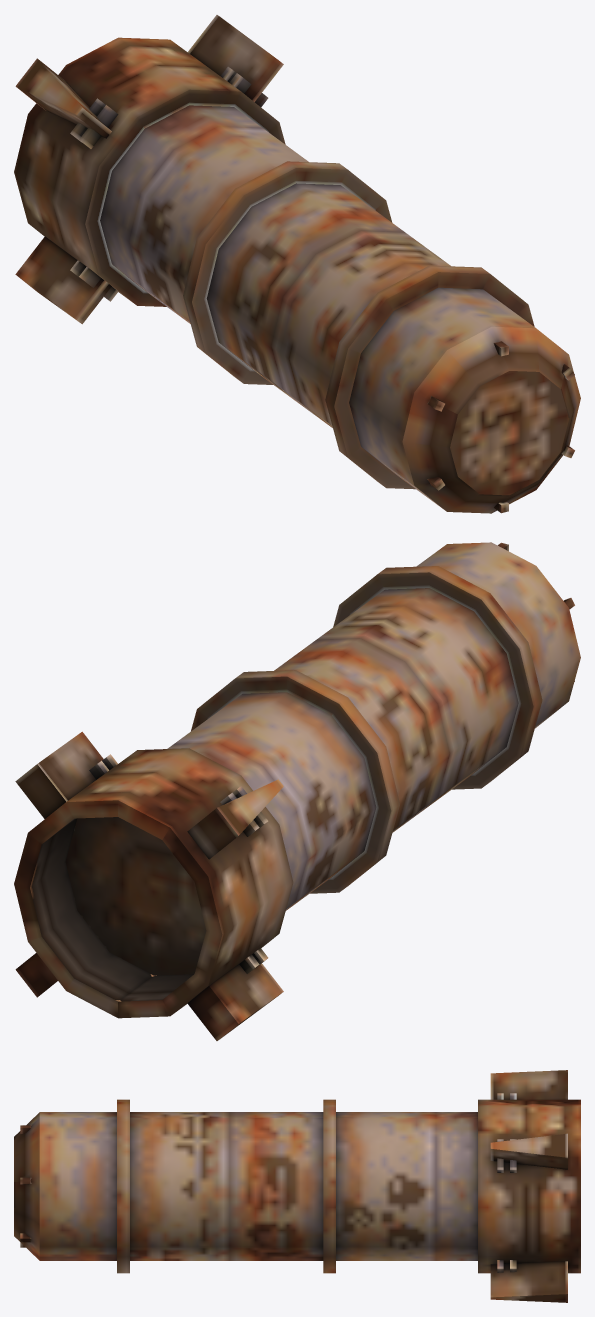
File: dud_salted.obj
The picture shows the model from 3 angles, top to bottom: view 1: azimuth 30°, elevation 25°; view 2: azimuth 150°, elevation 25°; view 3: azimuth 270°, elevation 25°; orthographic projection. The views are drawn at different scales.
Visible parts, largest first — view 1: Cylinder.002; view 2: Cylinder.002; view 3: Cylinder.002.
Part boxes in pixels (left/top/right/bottom): Cylinder.002: left=14, top=15, right=580, bottom=513; Cylinder.002: left=14, top=542, right=580, bottom=1040; Cylinder.002: left=14, top=1070, right=580, bottom=1302.
Size of the model in its own units: 1.81 by 1.81 by 5.5.
